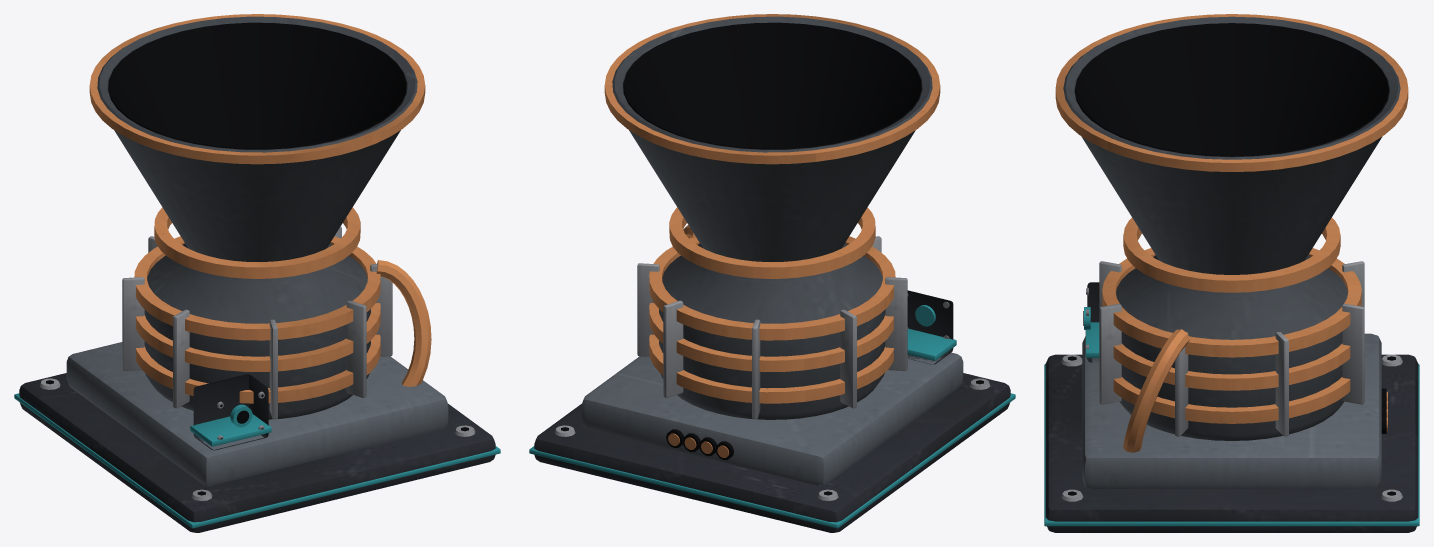
The model's file is thruster_4.glb.
3 views of the same model, side by side, from view 1: azimuth 30°, elevation 25°; view 2: azimuth 150°, elevation 25°; view 3: azimuth 270°, elevation 25° (orthographic). The views are drawn at different scales.
Visible parts, largest first — view 1: Body; view 2: Body; view 3: Body.
Part boxes in pixels (bbox=[...]): Body: bbox=[14, 14, 500, 532]; Body: bbox=[529, 14, 1015, 532]; Body: bbox=[1044, 14, 1419, 532].
Size of the model in its own units: 0.2256 by 0.246 by 0.2256.
9 materials, 5 textured.
